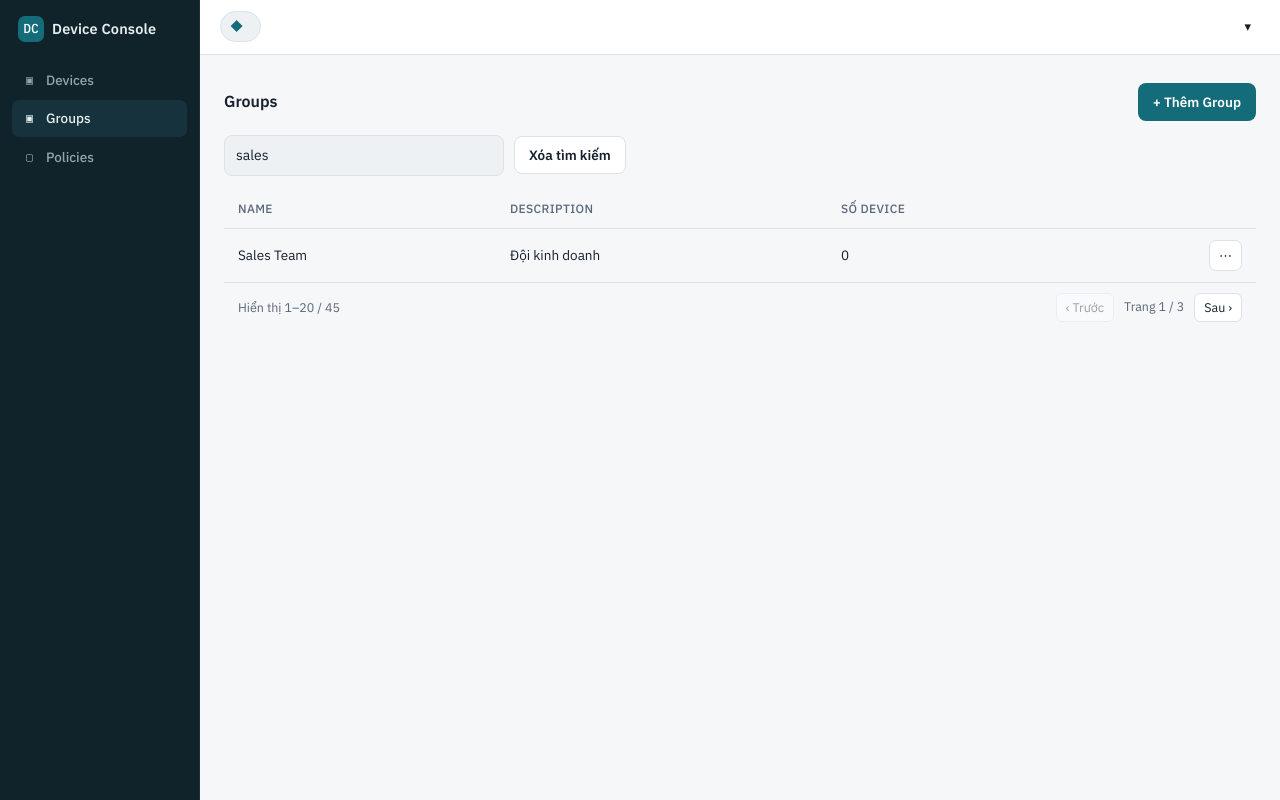
GroupListView › create / edit › after creating: closes the modal, toasts, returns to page 1 keeping q, and refetches
This screenshot has width=1280, height=800.
Click the button with test id "add-group-button" at (1197, 102), box [1138,82,1256,121]
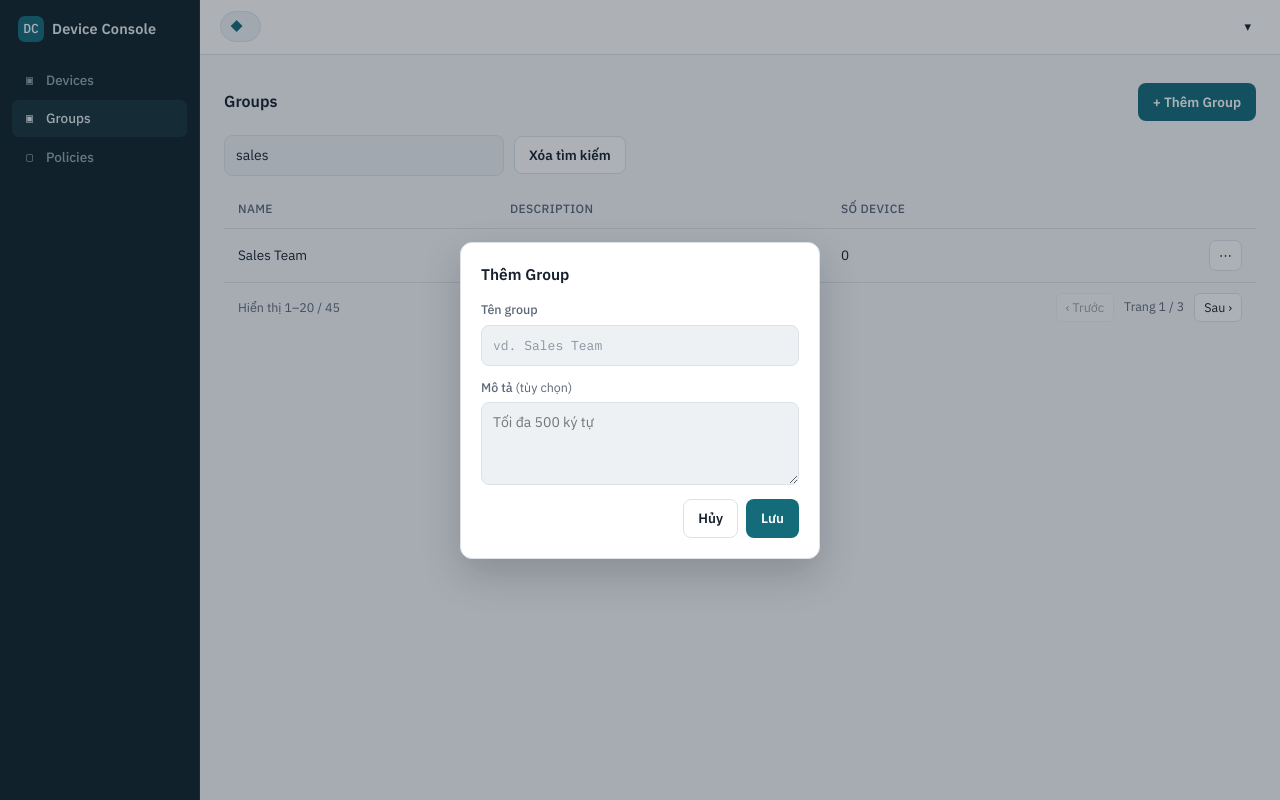
Type "Group Mới Nhất" into the field with test id "group-form-name" at (640, 345), box [481,324,799,366]
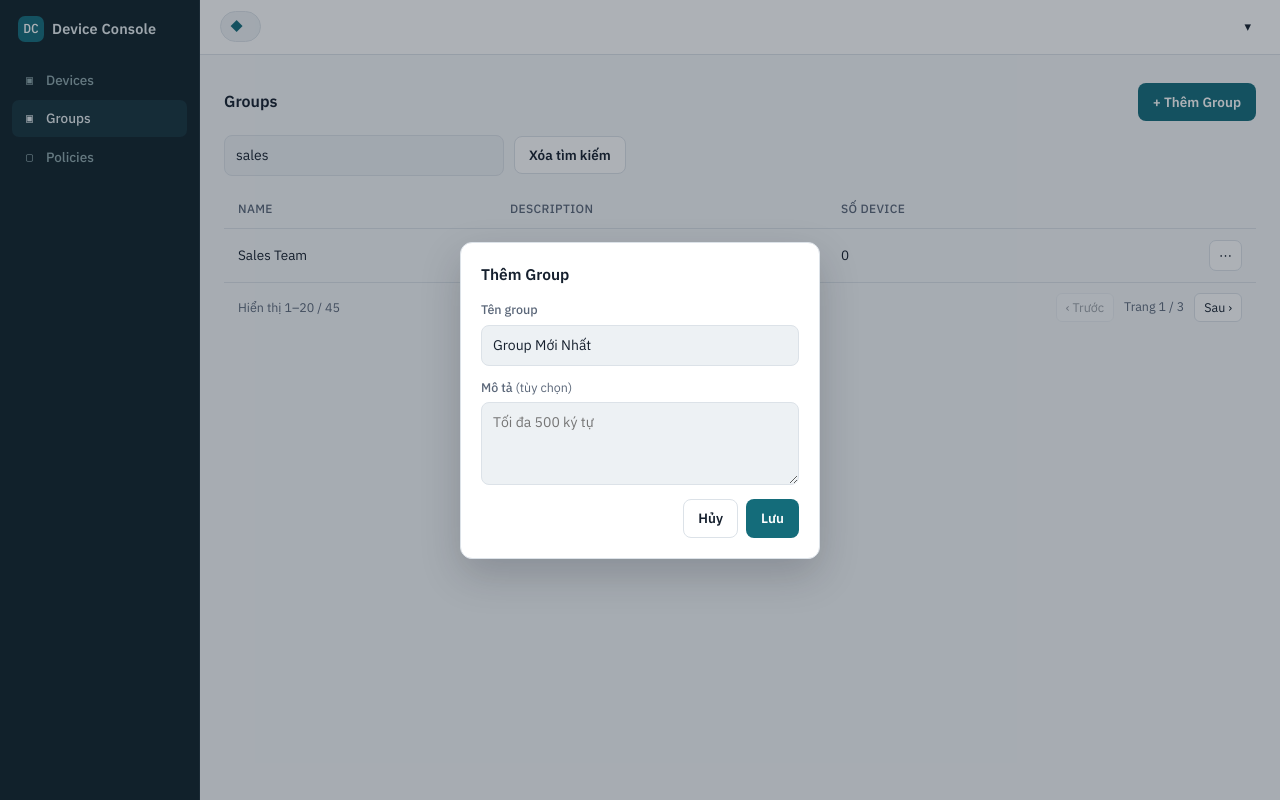
Submit the form, box [460,242,820,558]
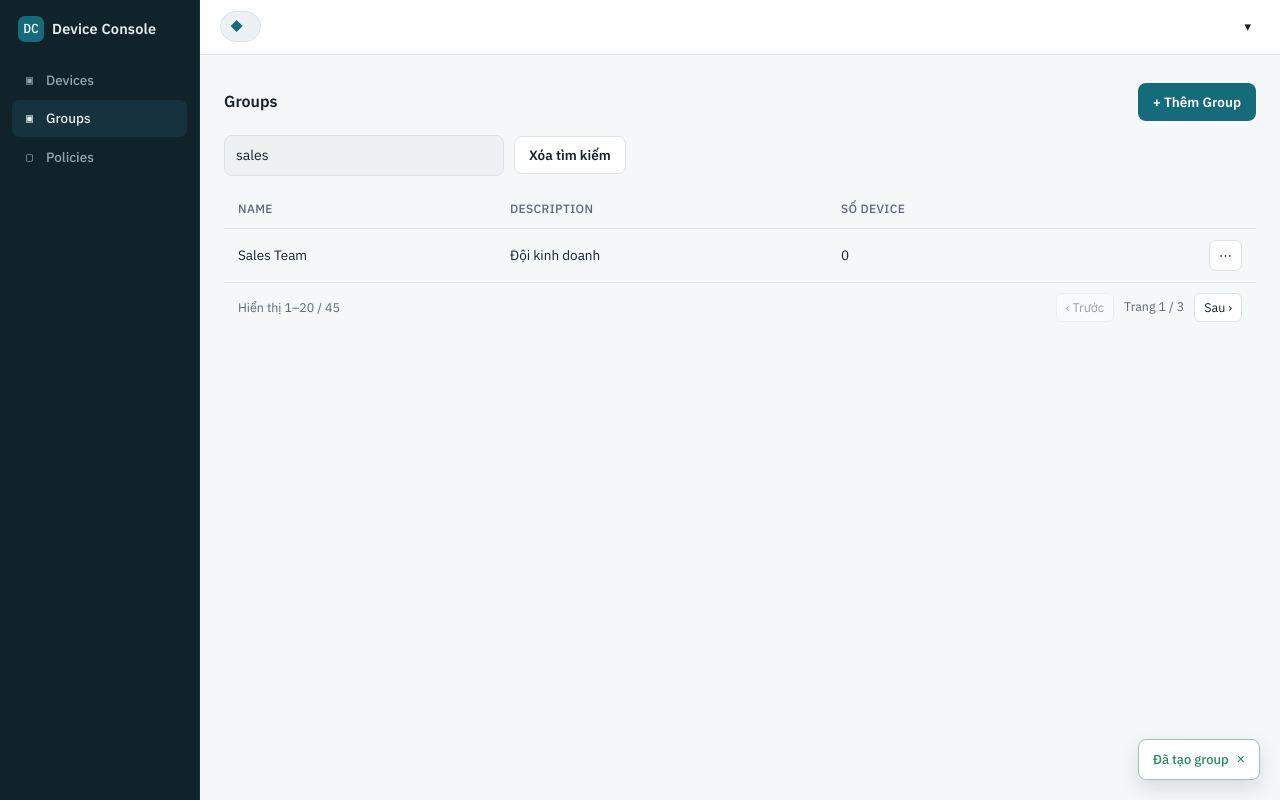
Check: the element with test id "toast" shows "Đã tạo group", box [1153,750,1229,768]
